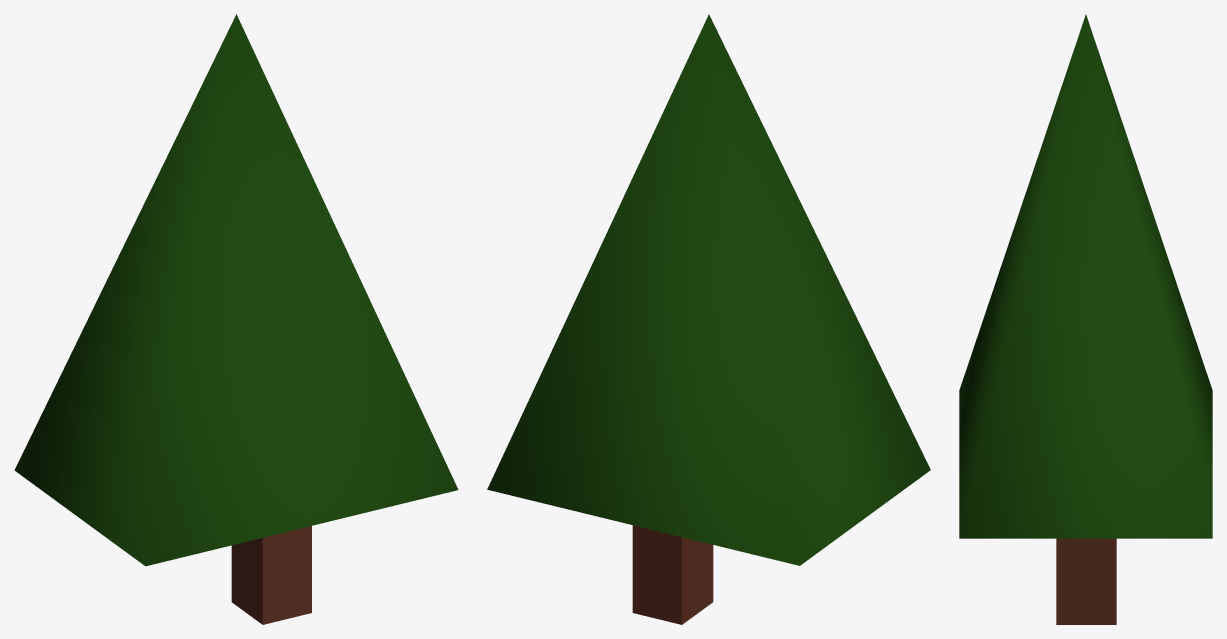
The model's file is tree_04.fbx.
3 views of the same model, side by side, from view 1: azimuth 30°, elevation 25°; view 2: azimuth 150°, elevation 25°; view 3: azimuth 270°, elevation 25° (orthographic). The views are drawn at different scales.
Parts seen in each view (by area): view 1: tree_04; view 2: tree_04; view 3: tree_04.
Boxes of the visible parts, x1,y1,x2,y2 form: tree_04: (14, 14, 458, 624); tree_04: (487, 14, 930, 624); tree_04: (959, 14, 1212, 624).
Bounding box in the file's own units: 2.63 × 4.83 × 1.91.
